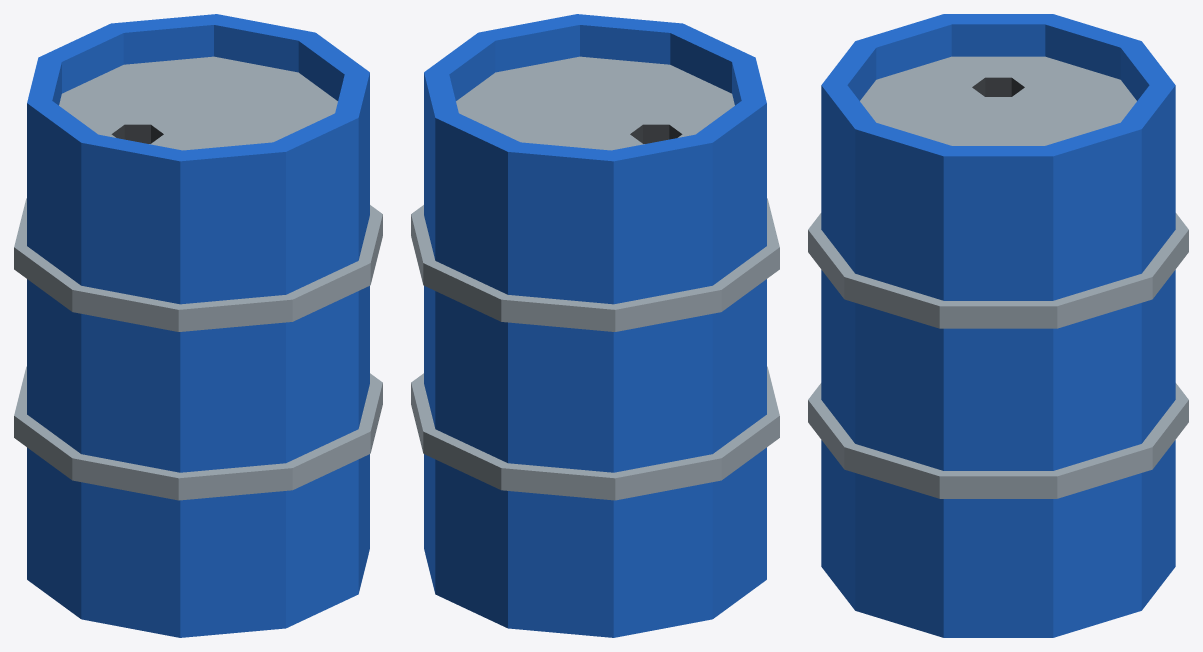
The model's file is BarrelMetal1.fbx.
3 renders of one model, left to right at view 1: azimuth 30°, elevation 25°; view 2: azimuth 150°, elevation 25°; view 3: azimuth 270°, elevation 25°, orthographic.
Visible parts, largest first — view 1: BarrelMetalBlue; view 2: BarrelMetalBlue; view 3: BarrelMetalBlue.
Part boxes in pixels (bbox=[...]): BarrelMetalBlue: bbox=[14, 14, 382, 637]; BarrelMetalBlue: bbox=[411, 14, 779, 637]; BarrelMetalBlue: bbox=[808, 14, 1188, 637].
Size of the model in its own units: 102 by 150 by 108.
